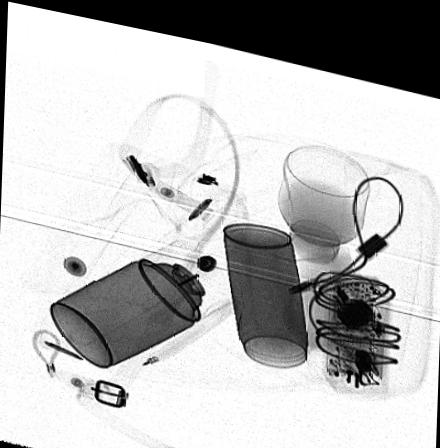Sprayer: (49, 233, 231, 364)
